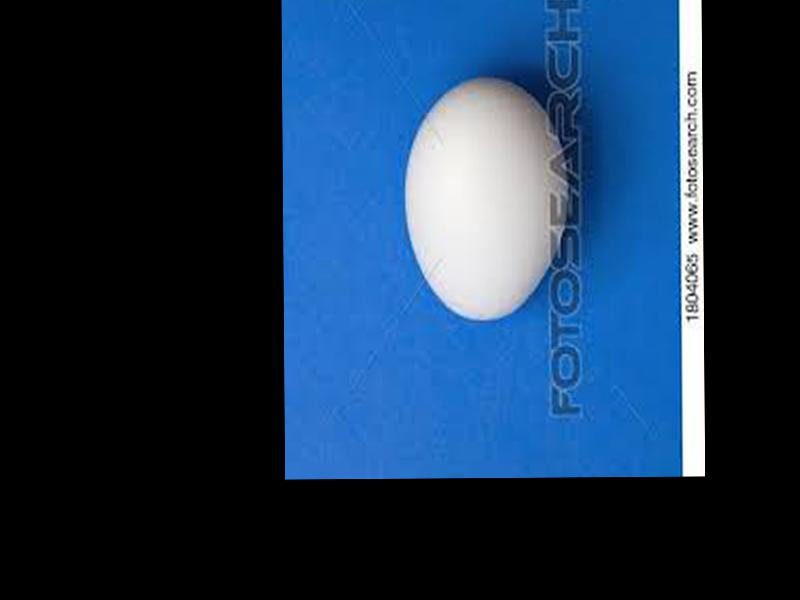Eggs: (404, 77, 573, 320)
